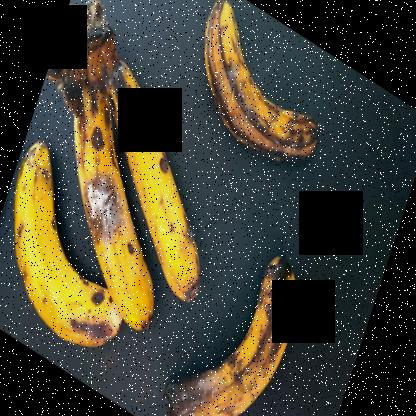ripe: (110, 60, 206, 310), (10, 145, 114, 363)
rotten: (197, 1, 330, 170), (164, 264, 303, 415)
